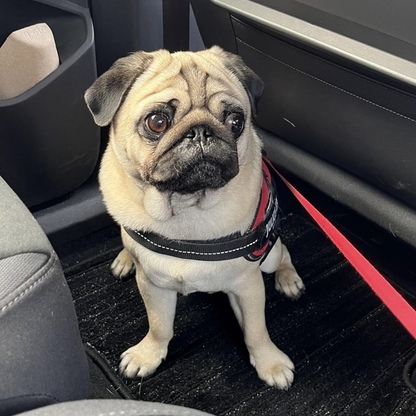Pug: (78, 42, 310, 389)
